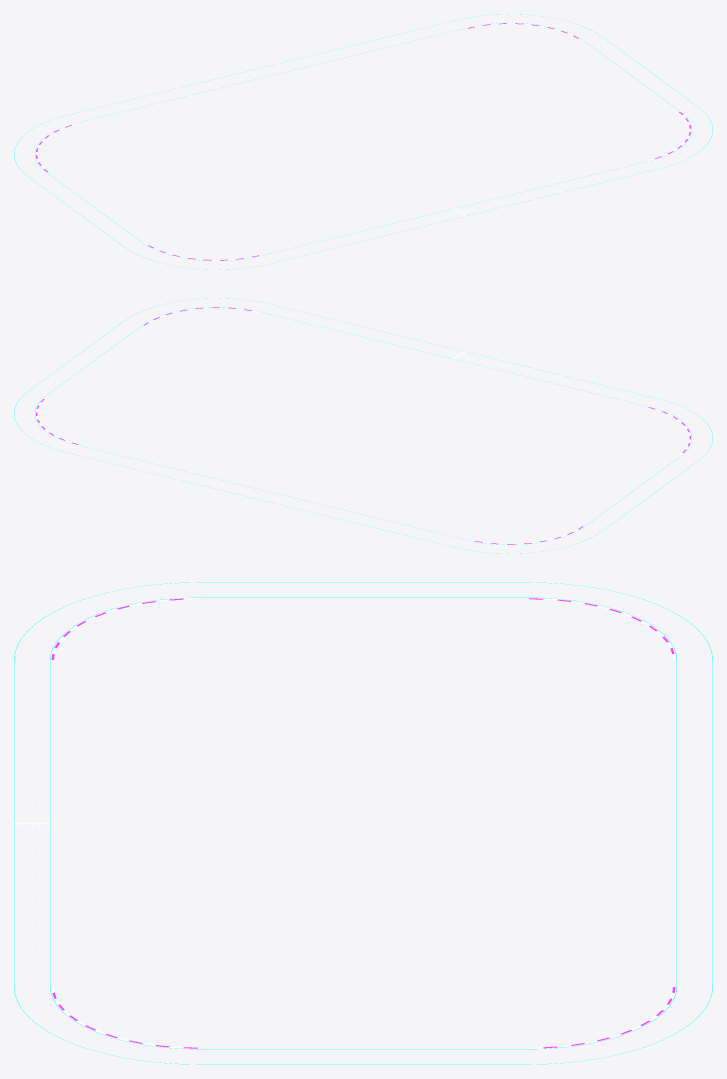
Rendered from SM_Track_Markings.fbx.
3 renders of one model, top to bottom at view 1: azimuth 30°, elevation 25°; view 2: azimuth 150°, elevation 25°; view 3: azimuth 270°, elevation 25°, orthographic. The views are drawn at different scales.
Parts seen in each view (by area): view 1: SM_Track_Markings; view 2: SM_Track_Markings; view 3: SM_Track_Markings.
Part boxes in pixels (bbox=[...]): SM_Track_Markings: bbox=[14, 14, 712, 269]; SM_Track_Markings: bbox=[14, 298, 712, 553]; SM_Track_Markings: bbox=[14, 582, 712, 1064].
Size of the model in its own units: 41320 by 0.4001 by 25320.
